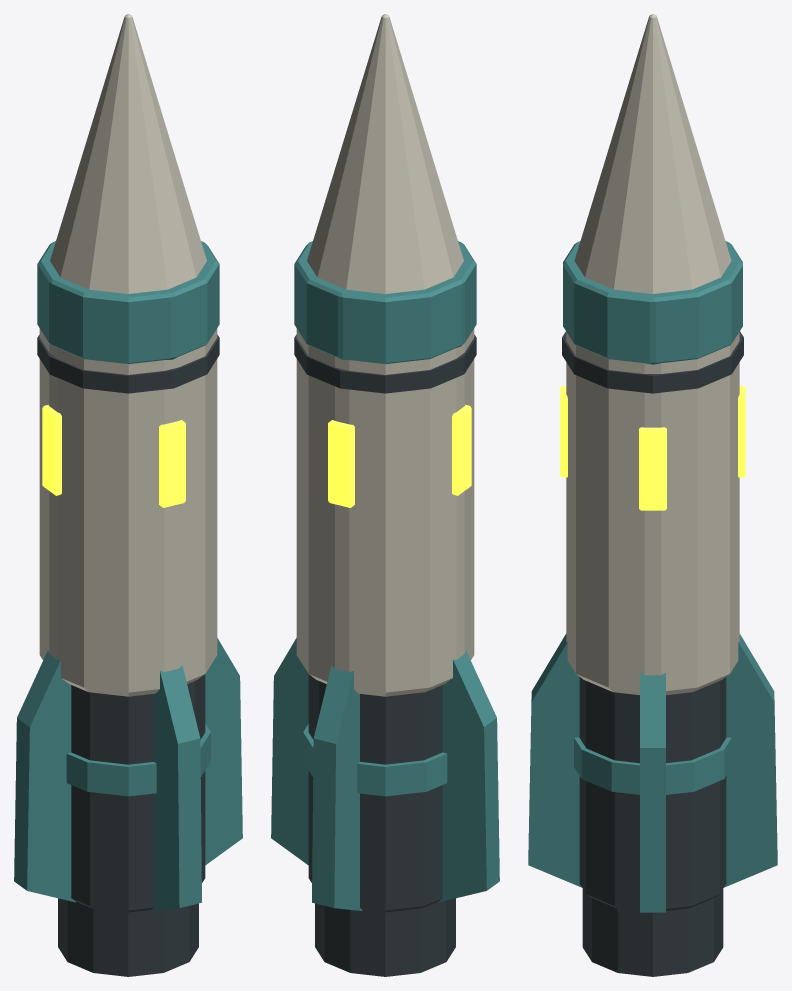
The model's file is SM_CP_Missile.fbx.
3 views of the same model, side by side, from view 1: azimuth 30°, elevation 25°; view 2: azimuth 150°, elevation 25°; view 3: azimuth 270°, elevation 25° (orthographic).
Visible parts, largest first — view 1: SM_CP_Missile; view 2: SM_CP_Missile; view 3: SM_CP_Missile.
Part boxes in pixels (box(x1,y1,x2,y2)): SM_CP_Missile: box(14, 14, 242, 976); SM_CP_Missile: box(271, 14, 499, 976); SM_CP_Missile: box(528, 14, 777, 976).
Size of the model in its own units: 0.23 by 0.23 by 0.95.
